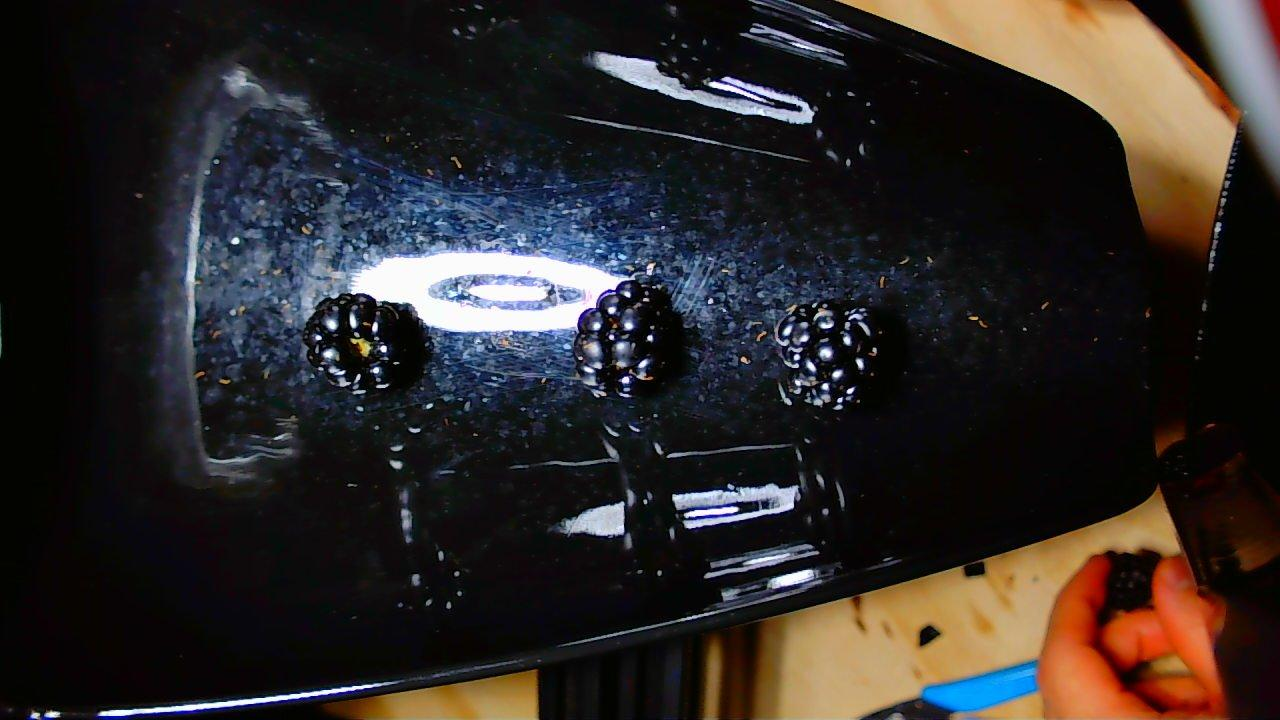berry: (572, 280, 679, 396), (303, 293, 424, 392), (774, 300, 879, 409)
